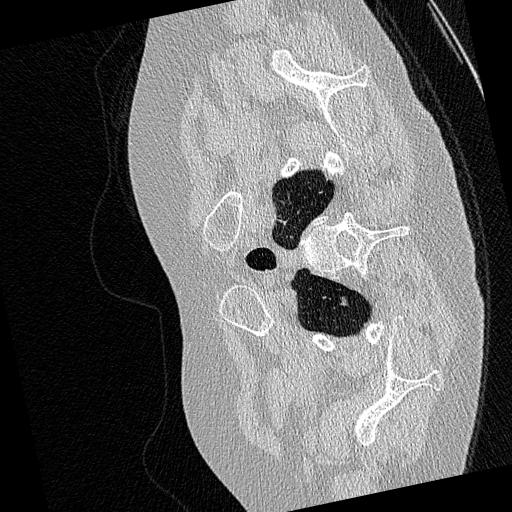nodule: (336, 294, 350, 308)
